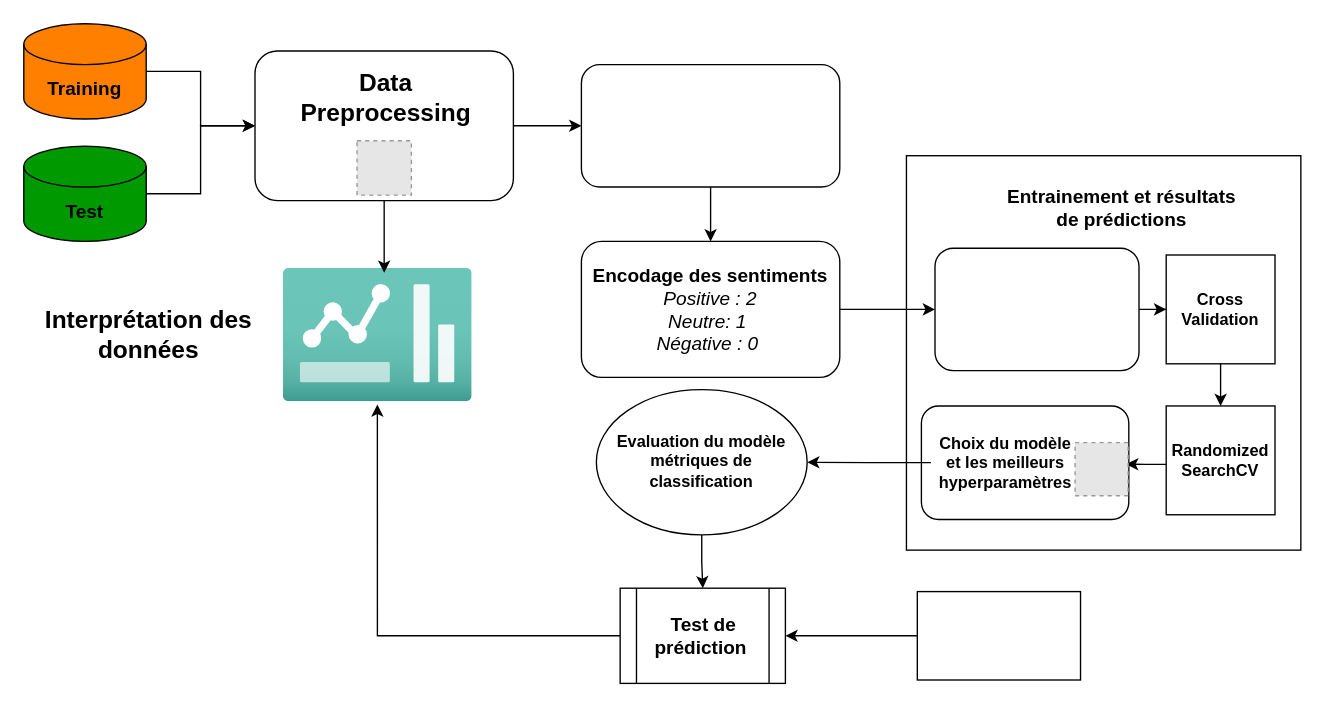
This 1325x707 diagram has some shape labels left out. Grey dashed boxes stand in for pictures. Here are the shapes that lost their labels. From the top down, the box of each, then its label:
(580, 63, 840, 187): Feature Engineering TF-IDF
(934, 247, 1139, 371): Sélection des modèles: RandomForestClassifier LogisticRegression MultinomialNB
(916, 590, 1081, 680): Interprétabilité du modèle
